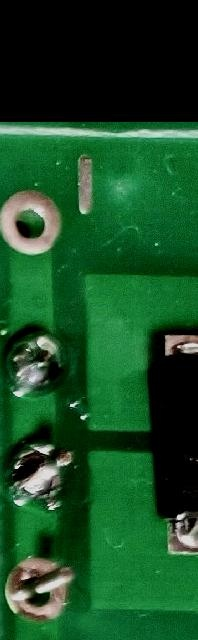diode: (149, 327, 198, 560)
